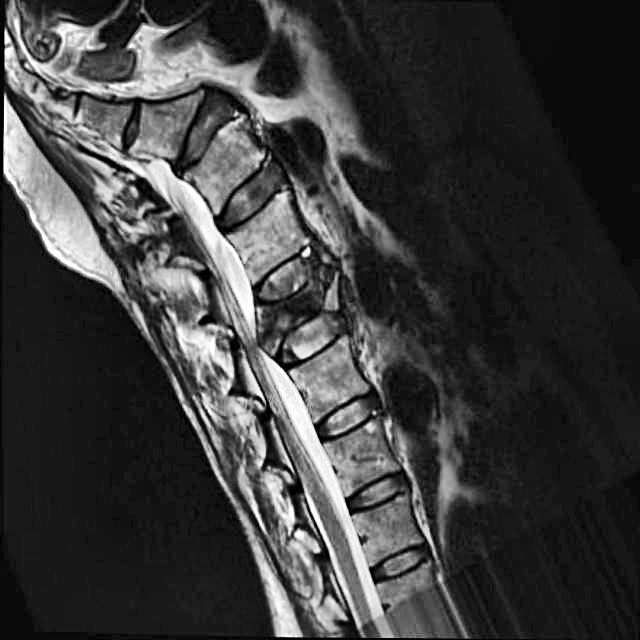Comminuted: (240, 244, 367, 372)
